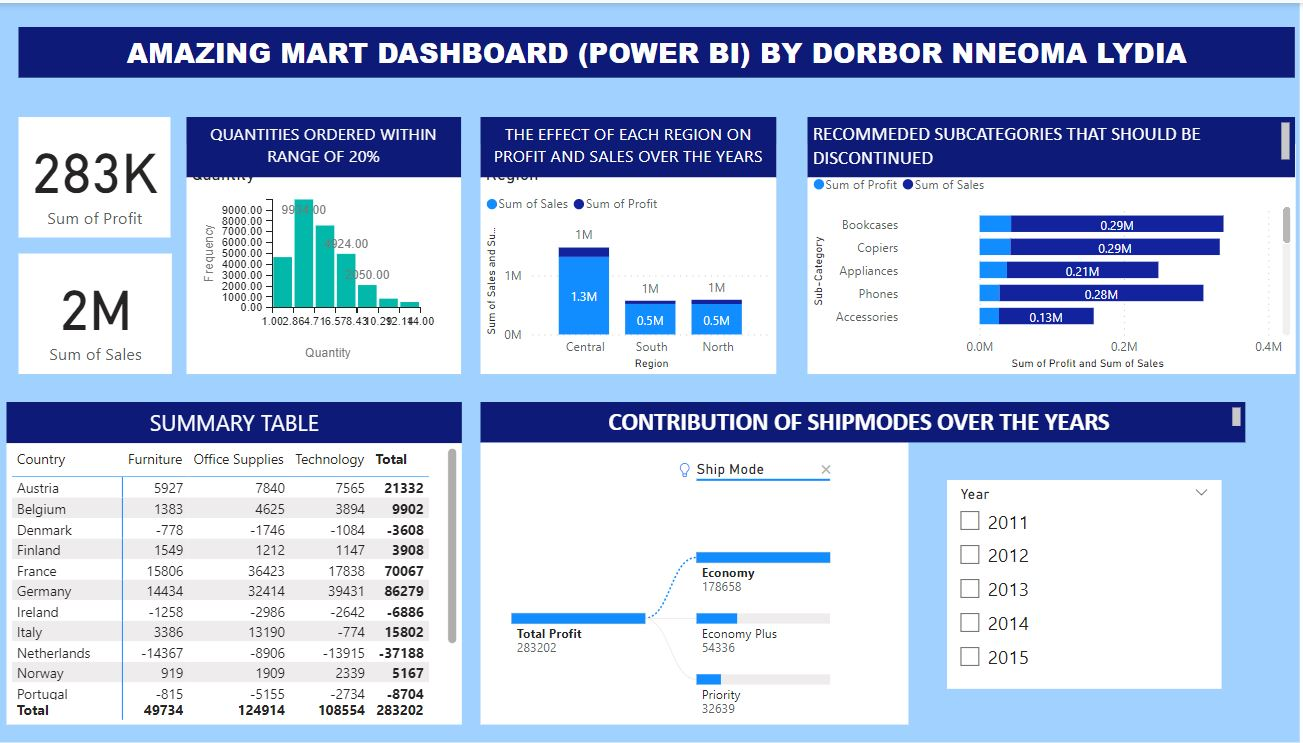

Layout of this report page (visuals, bound fields, positions):
{"tool":"powerbi","page":{"name":"DASHBOARD","canvas":[1280,720],"ordinal":5},"visuals":[{"type":"textbox","box":[0,0,1269.1,720],"z":0},{"type":"decompositionTreeVisual","fields":{"Analyze":["DAX MEASURES.Total Profit"],"ExplainBy":["ListOfOrders.Ship Mode"]},"box":[472.1,427.5,416.4,275],"z":1000},{"type":"pivotTable","fields":{"Rows":["ListOfOrders.Country"],"Columns":["OrderBreakdown.Category"],"Values":["DAX MEASURES.Total Profit"]},"box":[9.5,427.5,443.4,275],"z":2000},{"type":"barChart","fields":{"Category":["OrderBreakdown.Sub-Category"],"Y":["Sum(OrderBreakdown.Profit)","Sum(OrderBreakdown.Sales)"]},"box":[789.9,136.7,475.2,224.1],"z":3000},{"type":"columnChart","fields":{"Category":["ListOfOrders.Region"],"Y":["Sum(OrderBreakdown.Sales)","Sum(OrderBreakdown.Profit)"]},"box":[472.1,136.7,287.7,224.1],"z":4000},{"type":"Histogram1445664487616","fields":{"Values":["OrderBreakdown.Quantity"],"Frequency":["DAX MEASURES.Quantities within 20% range"]},"box":[186,136.7,267,224.1],"z":5000},{"type":"card","fields":{"Values":["Sum(OrderBreakdown.Sales)"]},"box":[22.3,243.2,149.4,117.6],"z":6000},{"type":"card","fields":{"Values":["Sum(OrderBreakdown.Profit)"]},"box":[22.3,111.3,147.8,117.6],"z":7000},{"type":"textbox","box":[22.3,23.8,1242.9,49.3],"z":8000},{"type":"textbox","box":[9.5,387.8,443.4,39.7],"z":9000},{"type":"textbox","box":[471.7,388.5,744.8,39.4],"z":10000},{"type":"slicer","fields":{"Values":["Calendar.Year"]},"box":[926.6,464.1,267,203.4],"z":11000},{"type":"textbox","box":[472.1,111.3,287.7,58.8],"z":12000},{"type":"textbox","box":[186,111.3,267,58.8],"z":13000},{"type":"textbox","box":[790.1,111,474.6,58.4],"z":14000}]}

Visuals, with their boxes in screenshot pixels (x1, y1, x2, y2), scaled from the page's 1280x720 canvas onto the 1303x743 screenshot:
textbox: box(0, 0, 1292, 742)
decompositionTreeVisual - DAX MEASURES.Total Profit x ListOfOrders.Ship Mode: box(481, 441, 904, 725)
pivotTable - ListOfOrders.Country x OrderBreakdown.Category: box(10, 441, 461, 725)
barChart - OrderBreakdown.Sub-Category x Sum(OrderBreakdown.Profit): box(804, 141, 1288, 372)
columnChart - ListOfOrders.Region x Sum(OrderBreakdown.Sales): box(481, 141, 773, 372)
Histogram1445664487616 - OrderBreakdown.Quantity x DAX MEASURES.Quantities within 20% range: box(189, 141, 461, 372)
card - Sum(OrderBreakdown.Sales): box(23, 251, 175, 372)
card - Sum(OrderBreakdown.Profit): box(23, 115, 173, 236)
textbox: box(23, 25, 1288, 75)
textbox: box(10, 400, 461, 441)
textbox: box(480, 401, 1238, 442)
slicer - Calendar.Year: box(943, 479, 1215, 689)
textbox: box(481, 115, 773, 176)
textbox: box(189, 115, 461, 176)
textbox: box(804, 115, 1287, 175)
